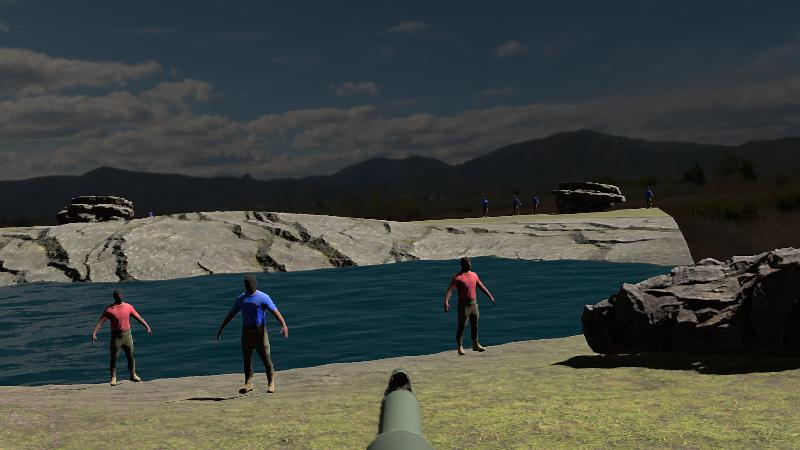Human: (217, 275, 287, 395), (93, 289, 151, 386), (445, 257, 495, 356)
